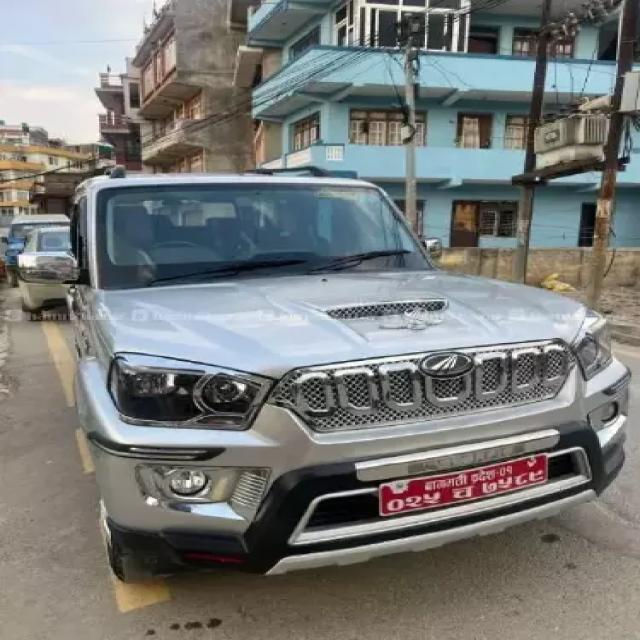License-plate: (378, 452, 556, 521)
